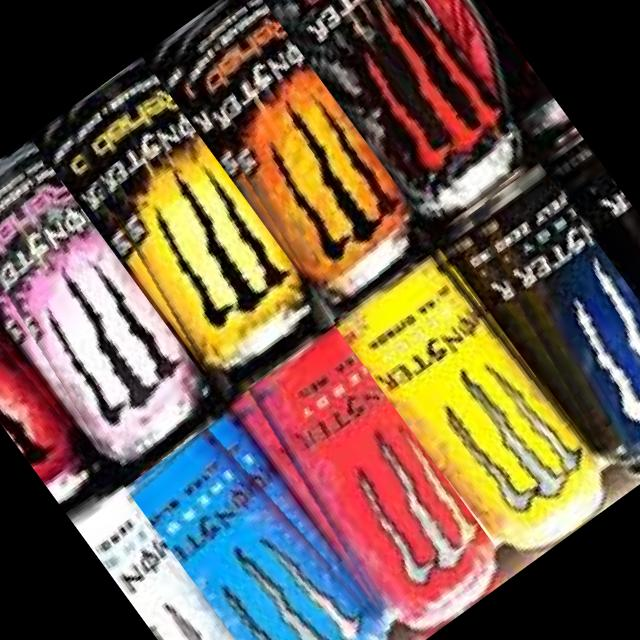Cans: (29, 55, 334, 403), (330, 239, 626, 574), (140, 0, 434, 314), (224, 325, 514, 640), (0, 136, 227, 487), (246, 0, 537, 233), (438, 161, 640, 492), (122, 407, 407, 640), (0, 213, 121, 523), (72, 486, 300, 640)
